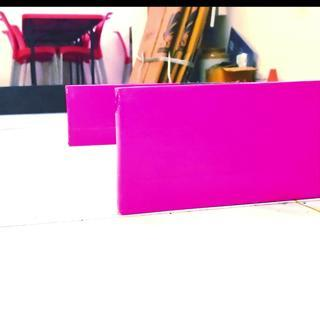xparking: (119, 89, 320, 211), (65, 84, 116, 147)
